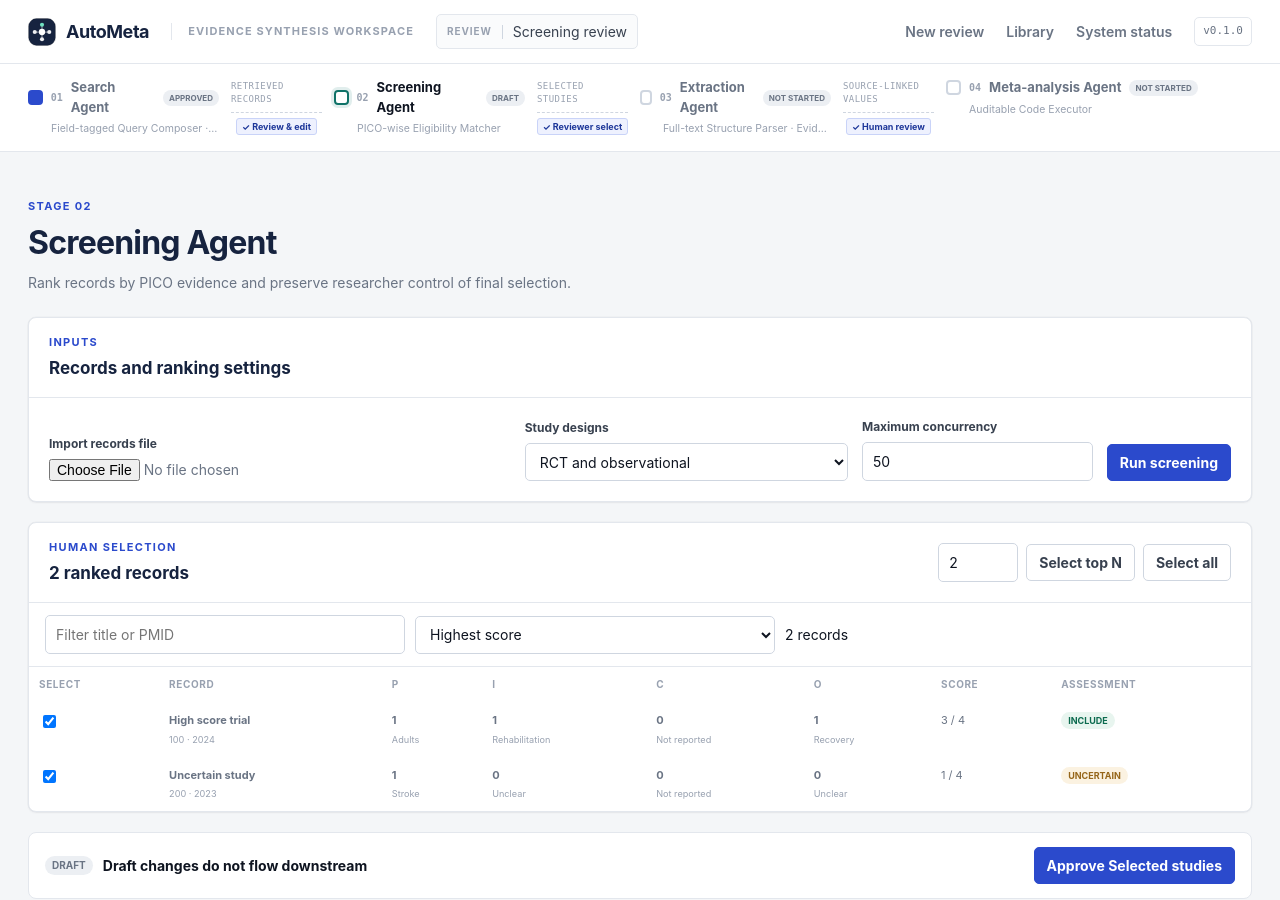
Scenario: ScreeningPage › shows dimension evidence and autosaves human Top N selection
This screenshot has width=1280, height=900.
Expected: the text "Adults" is shown, 392,734 -> 419,745
Expected: the text "3 / 4" is shown, 931,702 -> 1051,757
Replace the text in the number field named "Top N" with "1" at (978, 563), box 938,543 -> 1018,582
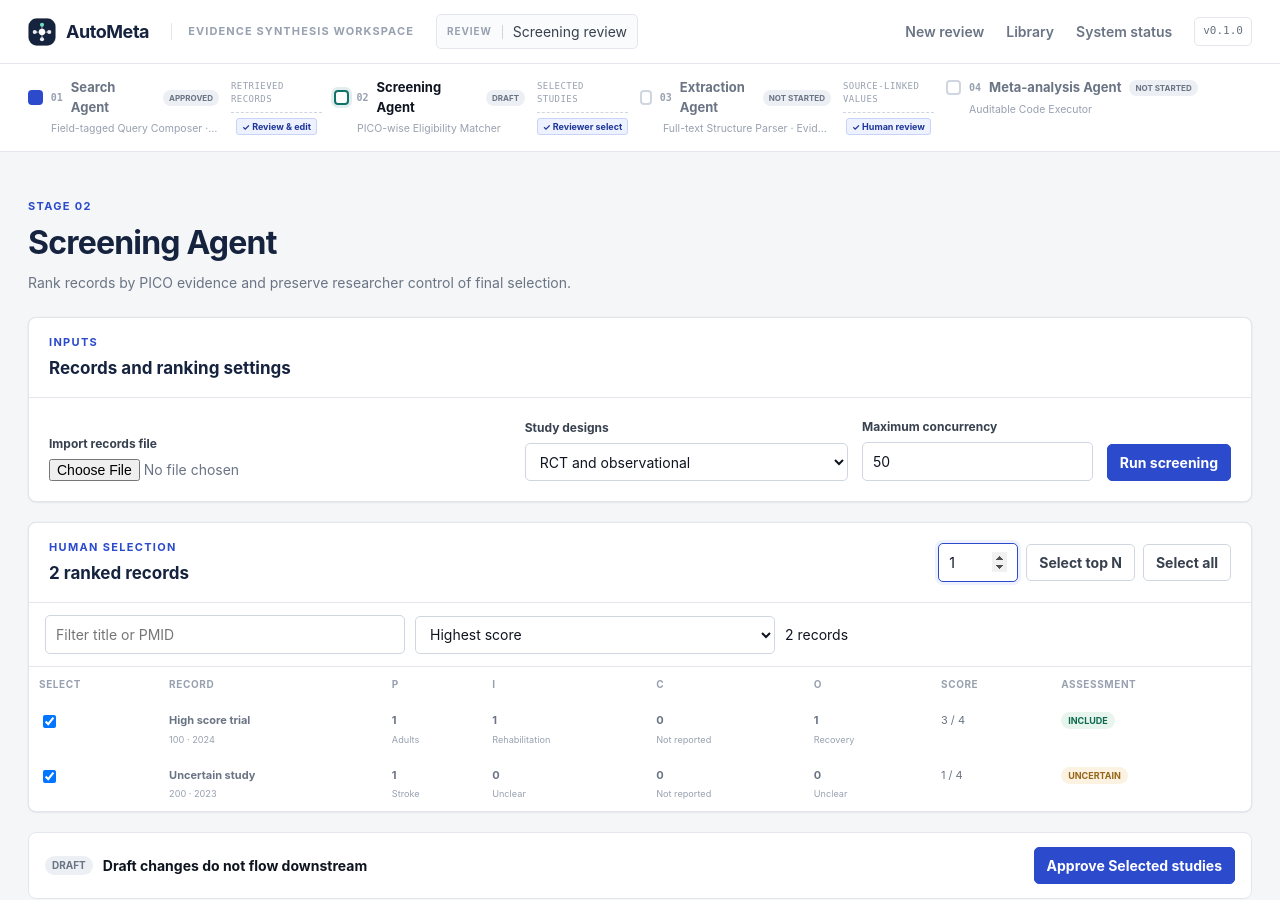
Click the button "Select top N" at (1081, 563), box 1026,544 -> 1135,581
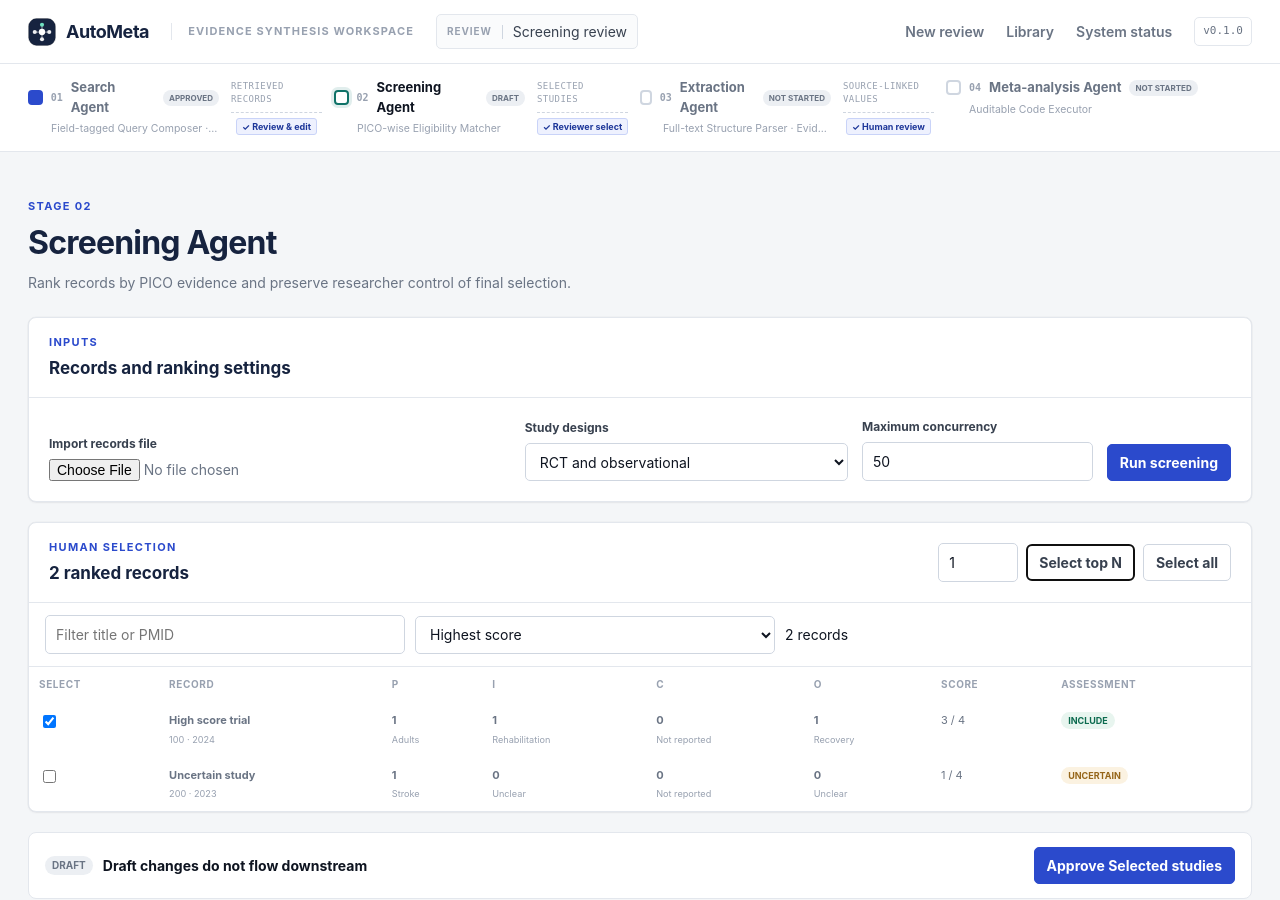
Expected: the checkbox named "Select High score trial" is checked, 43,715 -> 56,728
Expected: the checkbox named "Select Uncertain study" is not checked, 43,770 -> 56,782
